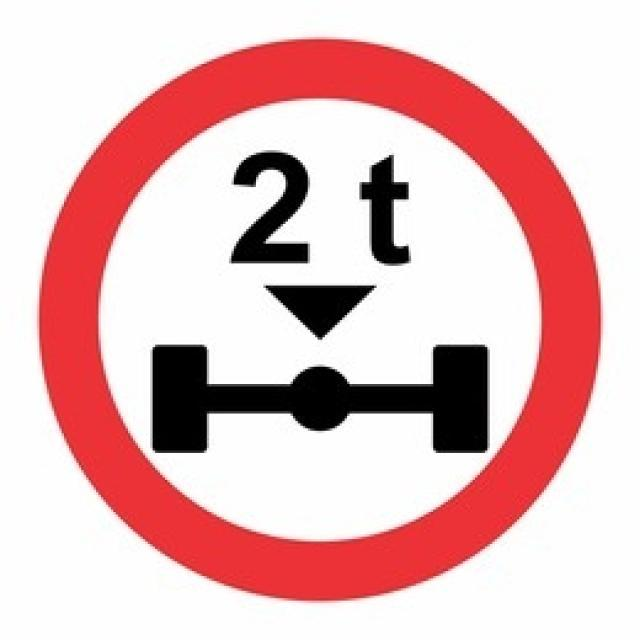axle load limit: (24, 29, 613, 613)
